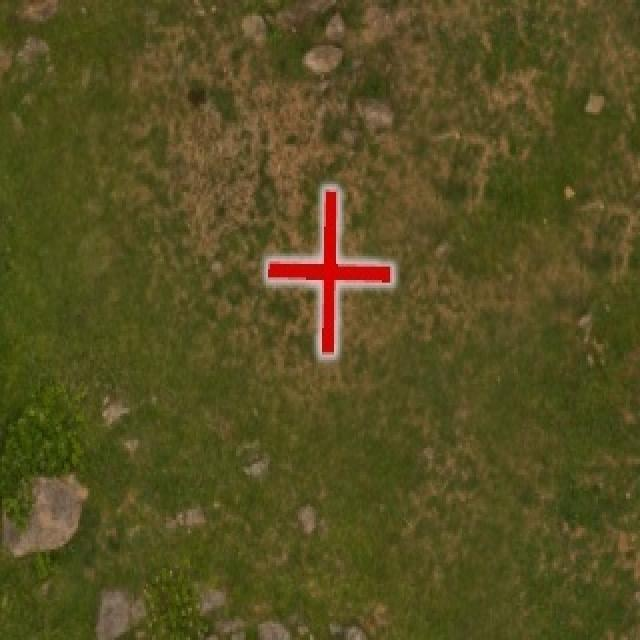x_marker: (267, 188, 391, 353)
